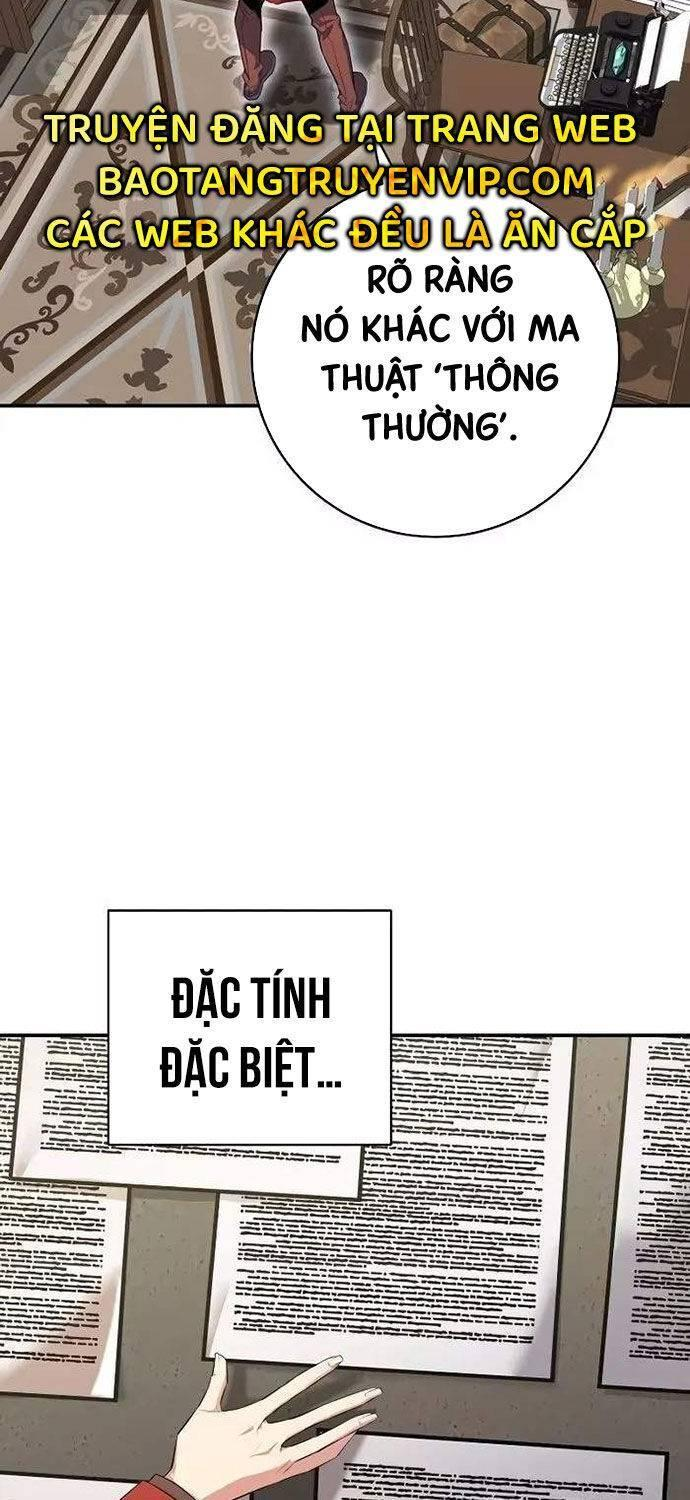quangcao: (42, 100, 650, 248)
